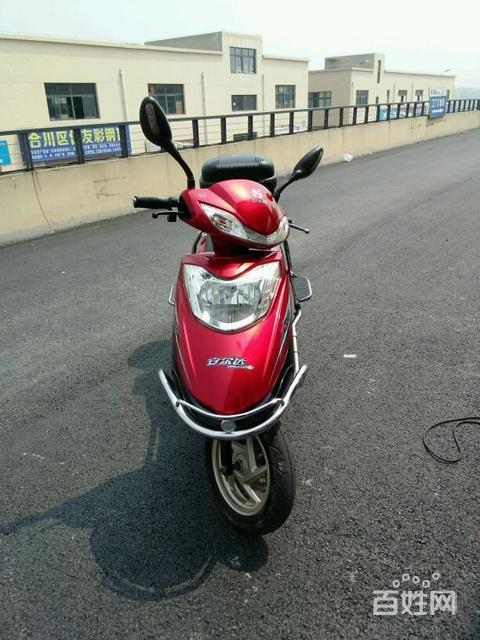电动车: (112, 81, 323, 548)
